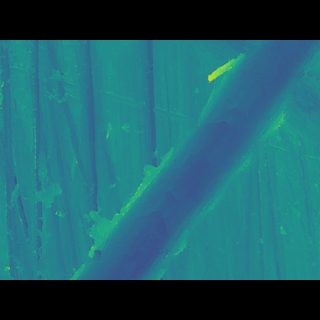Loch: (66, 69, 319, 250)
